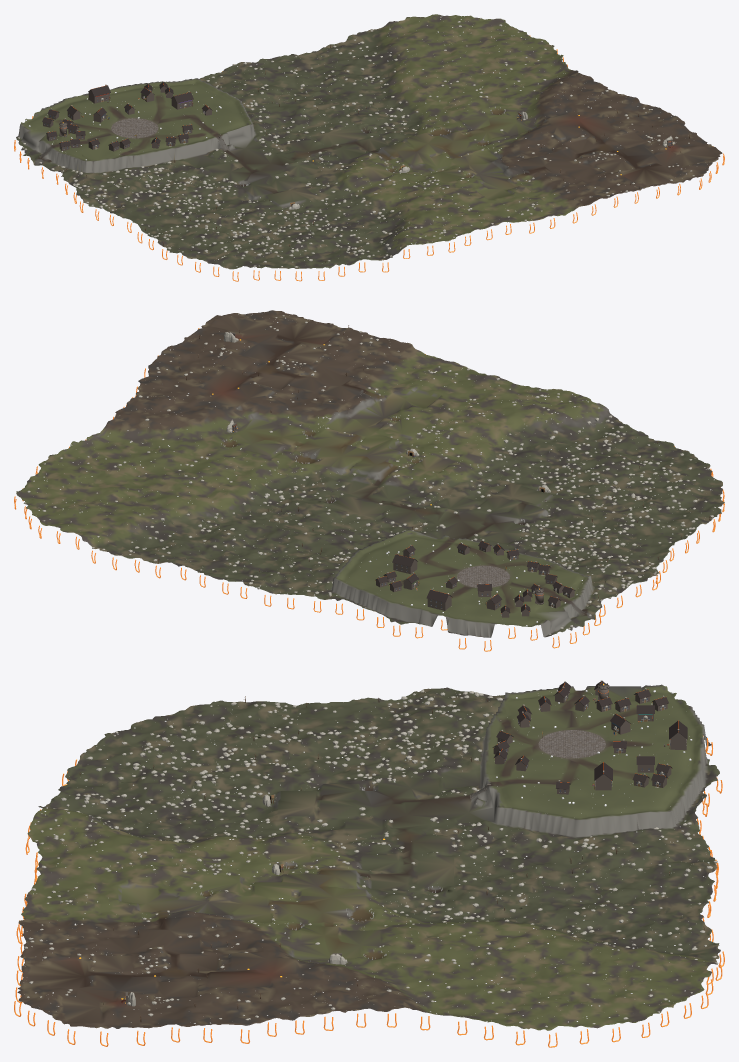
Rendered from kaldum.glb.
3 renders of one model, top to bottom at view 1: azimuth 30°, elevation 25°; view 2: azimuth 150°, elevation 25°; view 3: azimuth 270°, elevation 25°, orthographic. The views are drawn at different scales.
Visible parts, largest first — view 1: mo_sol_jeu, mo_objets_reunis, mo_agrafes_reunies, mo_sol_pave_0; view 2: mo_sol_jeu, mo_objets_reunis, mo_agrafes_reunies, mo_sol_pave_0; view 3: mo_sol_jeu, mo_objets_reunis, mo_agrafes_reunies, mo_sol_pave_0.
Part boxes in pixels (x1=…): mo_sol_jeu: x1=16, y1=14, x2=722, y2=269; mo_objets_reunis: x1=42, y1=81, x2=675, y2=209; mo_agrafes_reunies: x1=14, y1=35, x2=724, y2=281; mo_sol_pave_0: x1=111, y1=118, x2=158, y2=138; mo_sol_jeu: x1=16, y1=310, x2=724, y2=637; mo_objets_reunis: x1=212, y1=331, x2=575, y2=617; mo_agrafes_reunies: x1=14, y1=328, x2=724, y2=651; mo_sol_pave_0: x1=457, y1=565, x2=509, y2=587; mo_sol_jeu: x1=17, y1=684, x2=720, y2=1030; mo_objets_reunis: x1=79, y1=680, x2=687, y2=1006; mo_agrafes_reunies: x1=14, y1=736, x2=724, y2=1047; mo_sol_pave_0: x1=538, y1=730, x2=605, y2=758.
Bounding box in the file's own units: 367 × 27.35 × 304.
